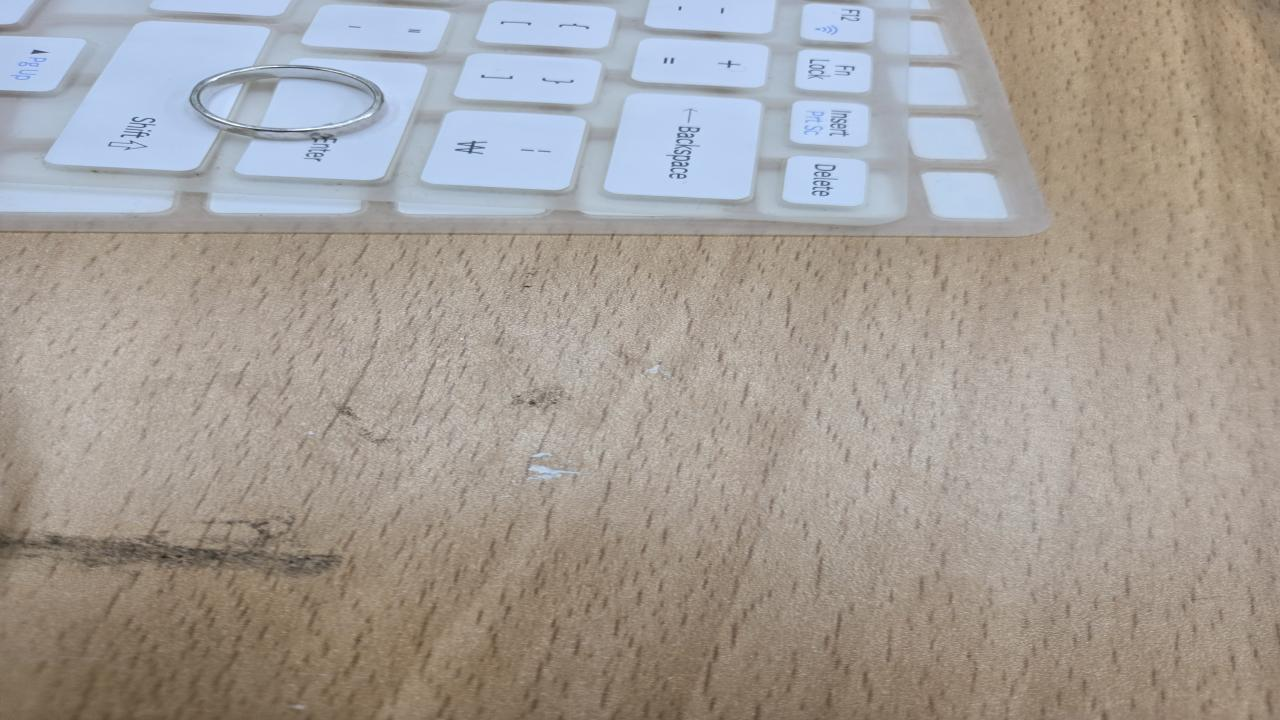ring: (189, 64, 388, 140)
